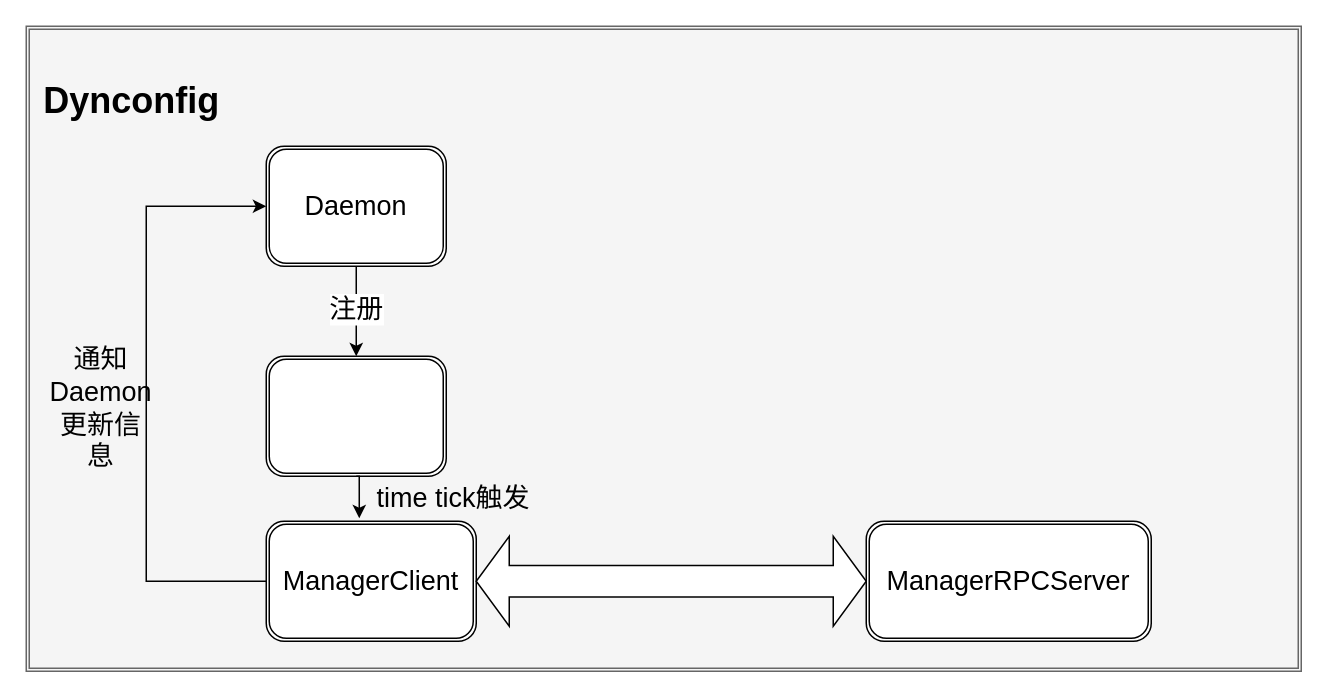
The diagram is 1328 pixels wide and 698 high, and some of its shapes have lost their labels. The centre of each missing label's shape, as x and y in pixels:
观察者模式: point 355,415
调用rpc接口获取配置信息: point 670,580
